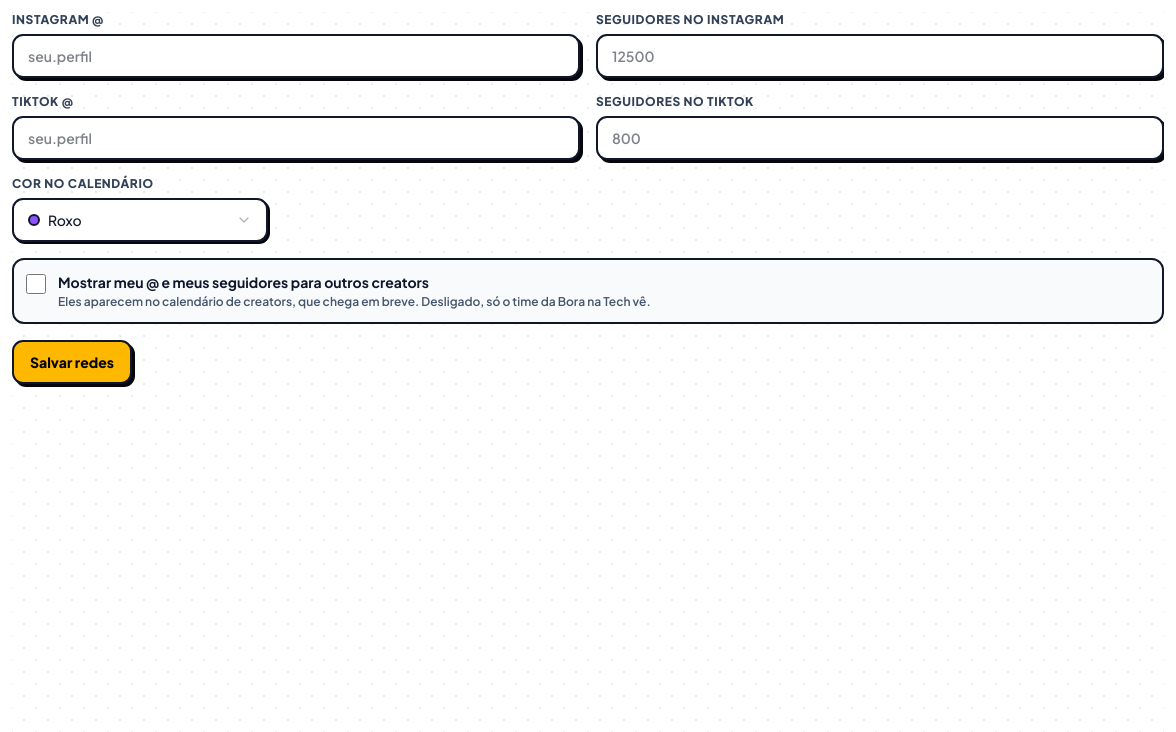
CreatorRedesForm: gravacao › 400 do servidor aponta o campo pelo codigo
Type "ana.cria" into the field labelled "Instagram @".
click(296, 56); type("ana.cria")  # box 12,34 -> 580,78
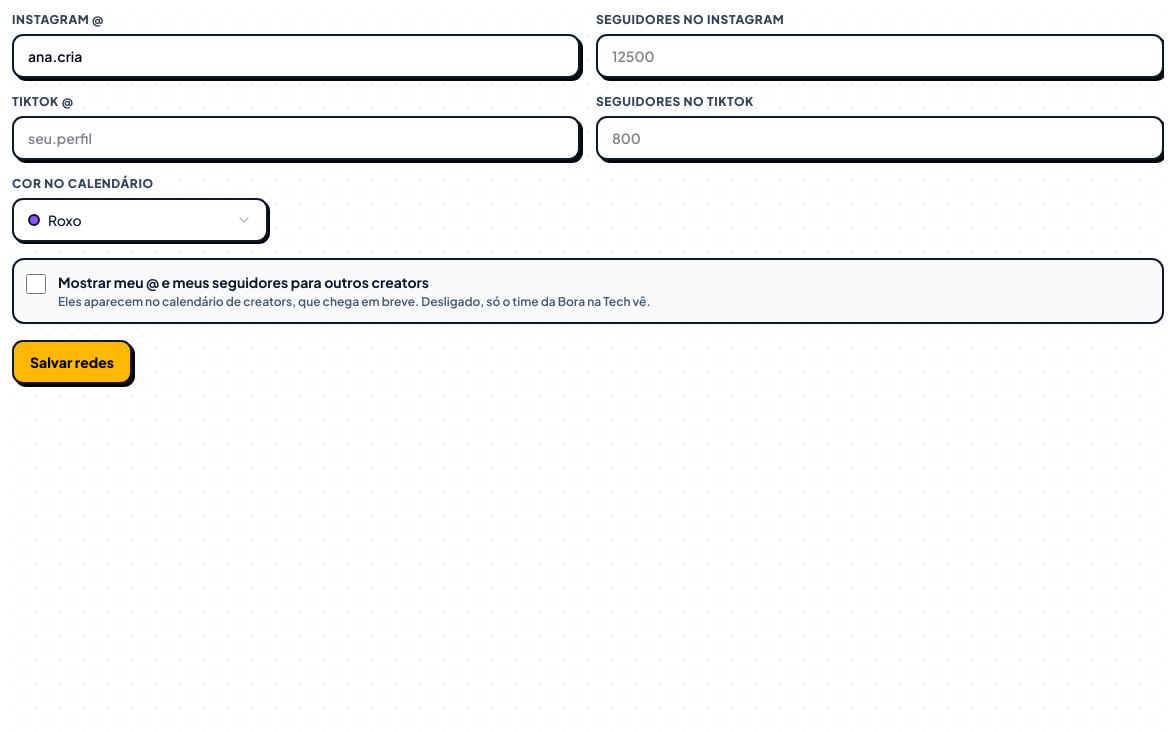
Click the button with test id "creator-perfil-salvar".
click(72, 362)  # box 12,340 -> 132,384
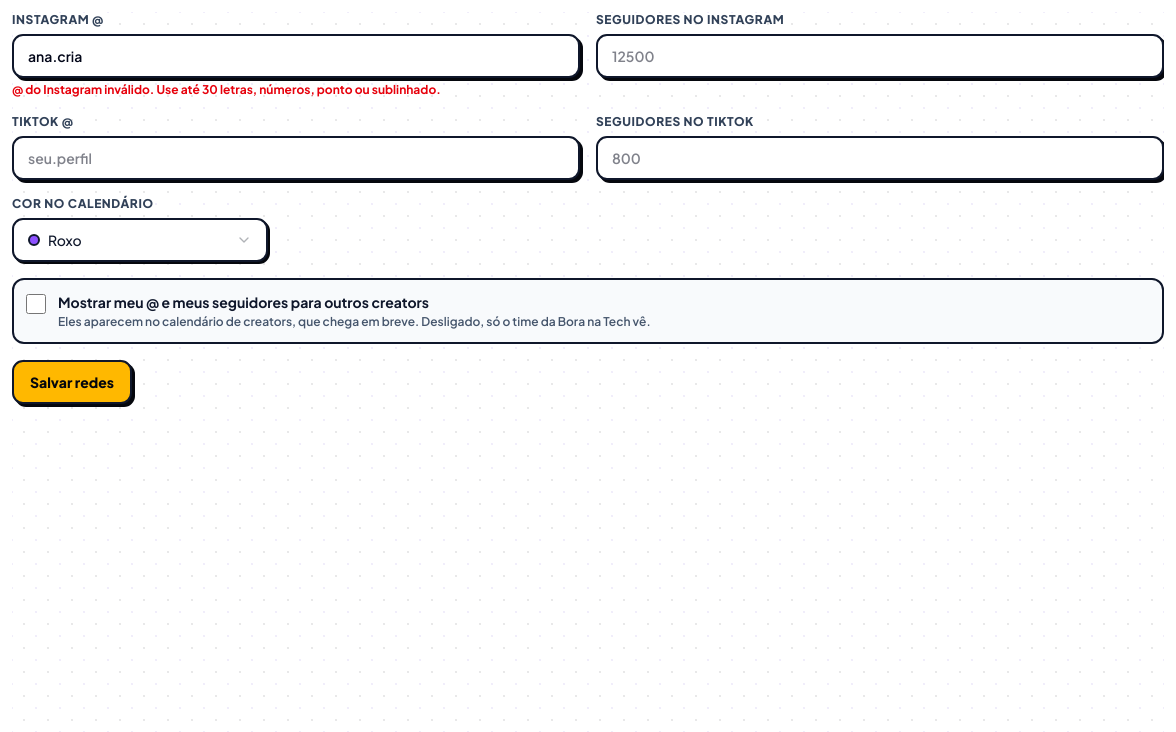
Now the text "@ do Instagram inválido. Use até 30 letras, números, ponto ou sublinhado." is shown, box 12,82 -> 441,97
